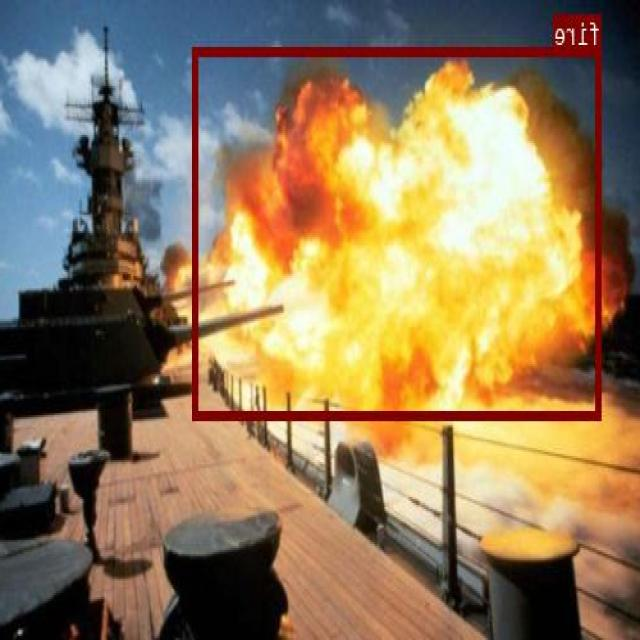fire: (195, 45, 602, 418)
